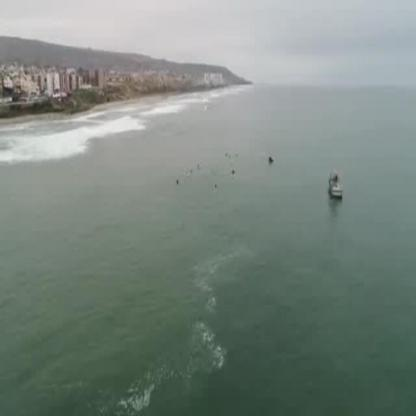Boat: (324, 171, 348, 202)
